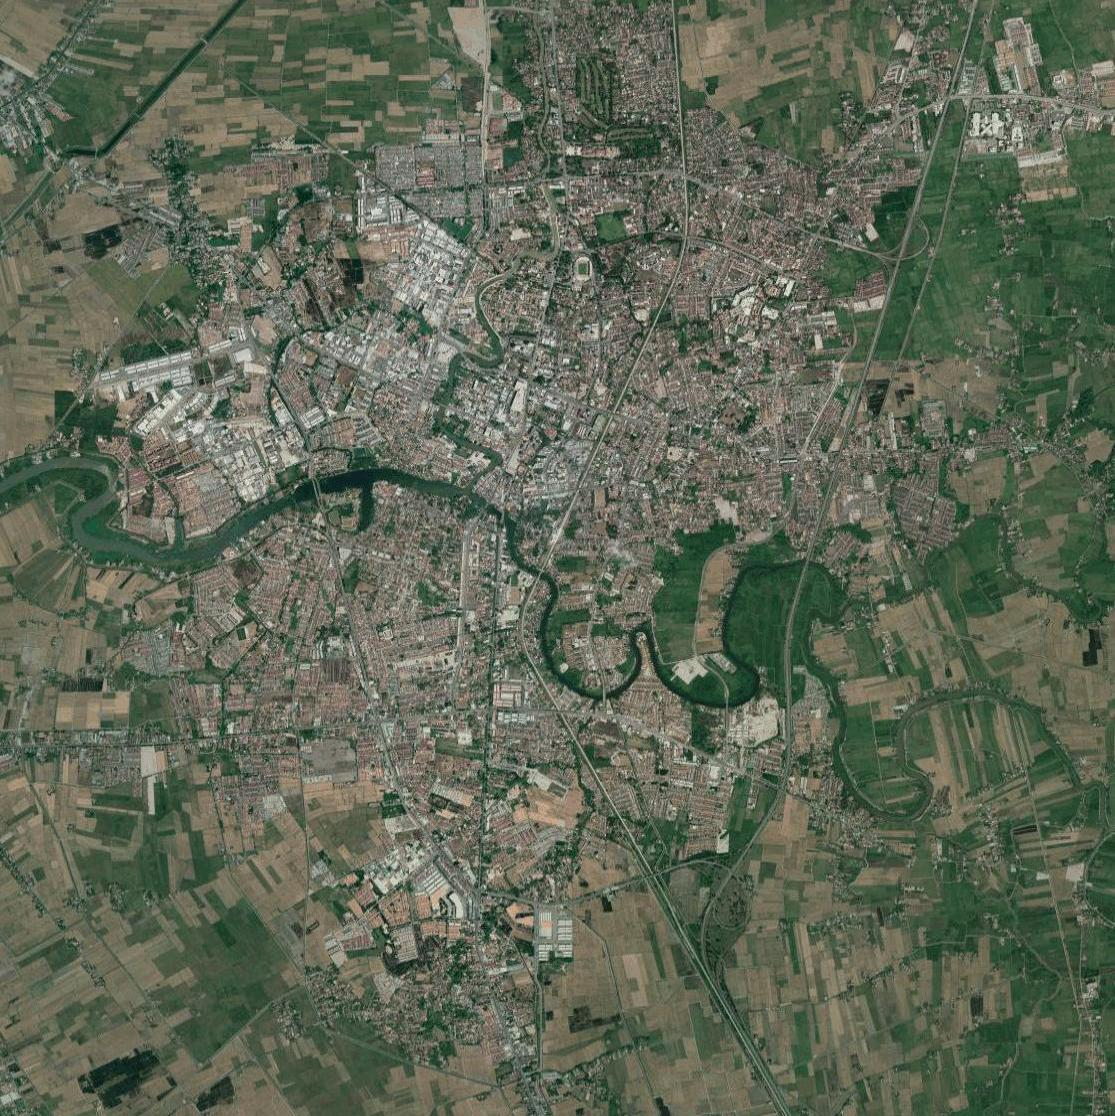industrial: (393, 221, 464, 322)
motorway: (878, 201, 917, 302), (854, 302, 890, 398), (914, 93, 947, 198), (794, 501, 830, 597), (825, 401, 861, 497), (766, 702, 799, 802), (732, 802, 775, 873), (947, 1, 975, 95), (780, 597, 795, 703)
train_station: (547, 526, 567, 544)
